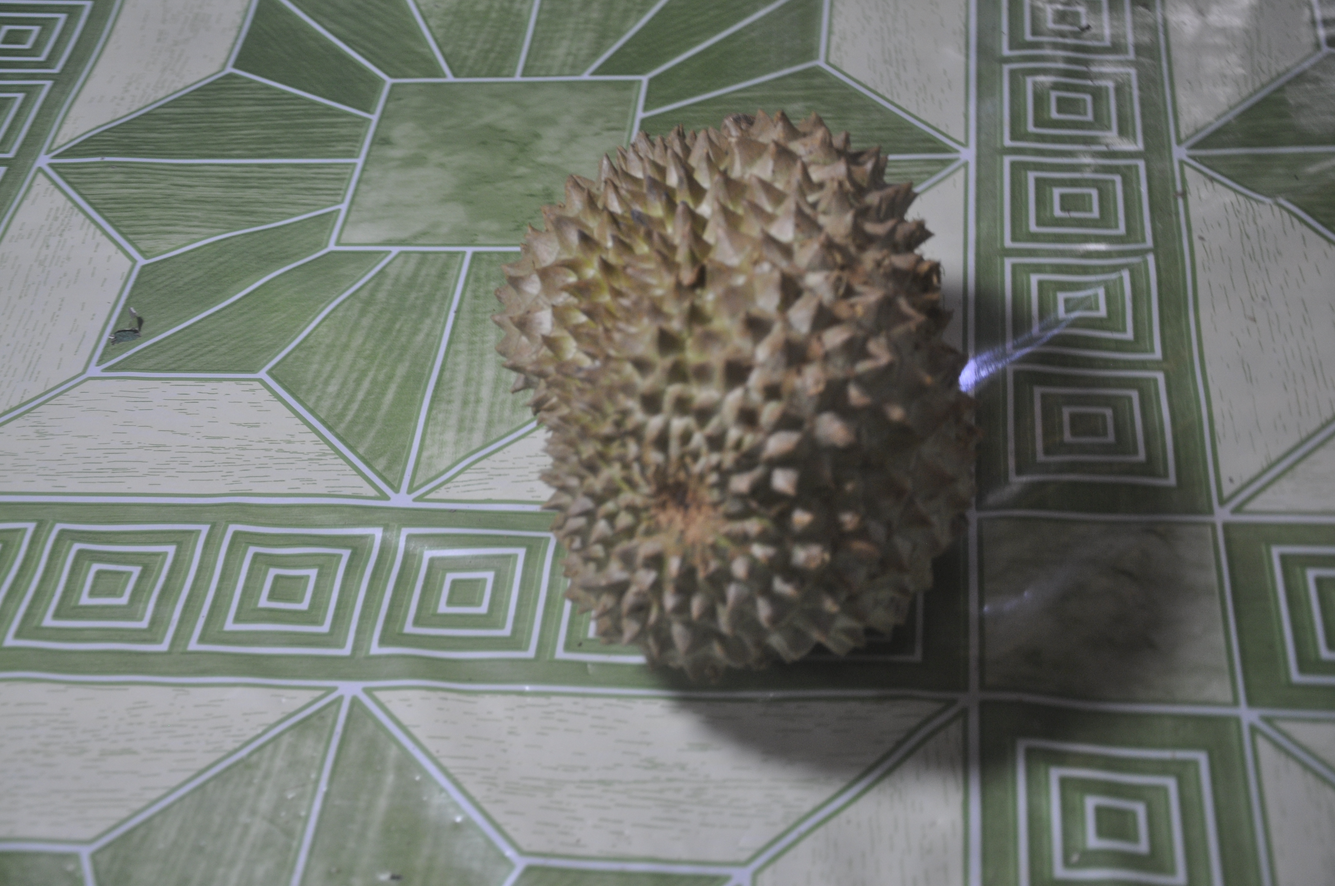mature: (495, 113, 976, 679)
